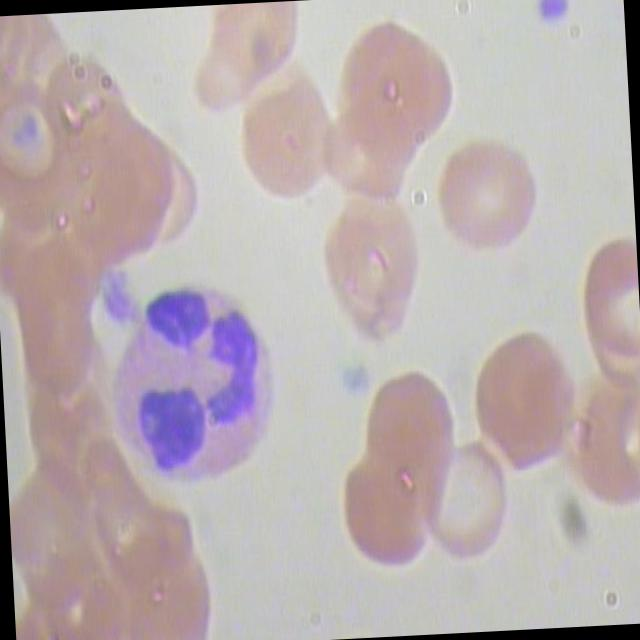Platelets: (97, 269, 142, 333), (532, 0, 577, 42)
RBC: (328, 14, 464, 164), (313, 186, 431, 357), (464, 326, 584, 478), (232, 68, 343, 207), (429, 134, 546, 264), (182, 2, 304, 121), (420, 434, 520, 578), (330, 465, 438, 586), (361, 371, 469, 492)
WBC: (103, 280, 287, 498)
